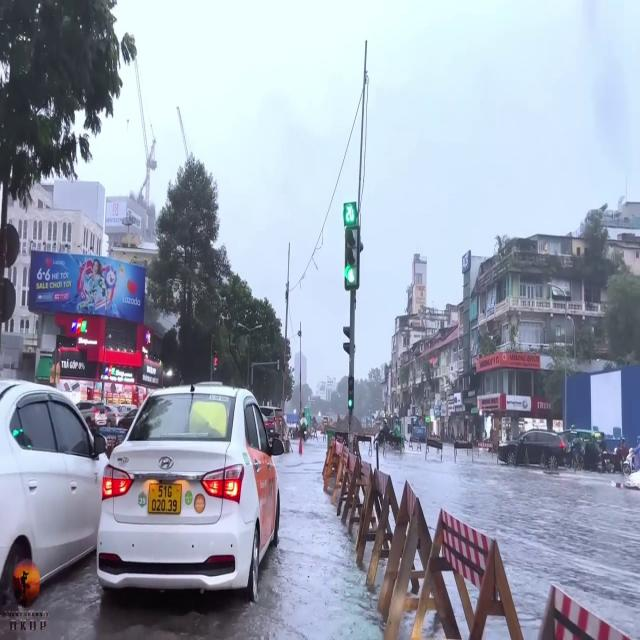bien_vang: (146, 478, 182, 516)
